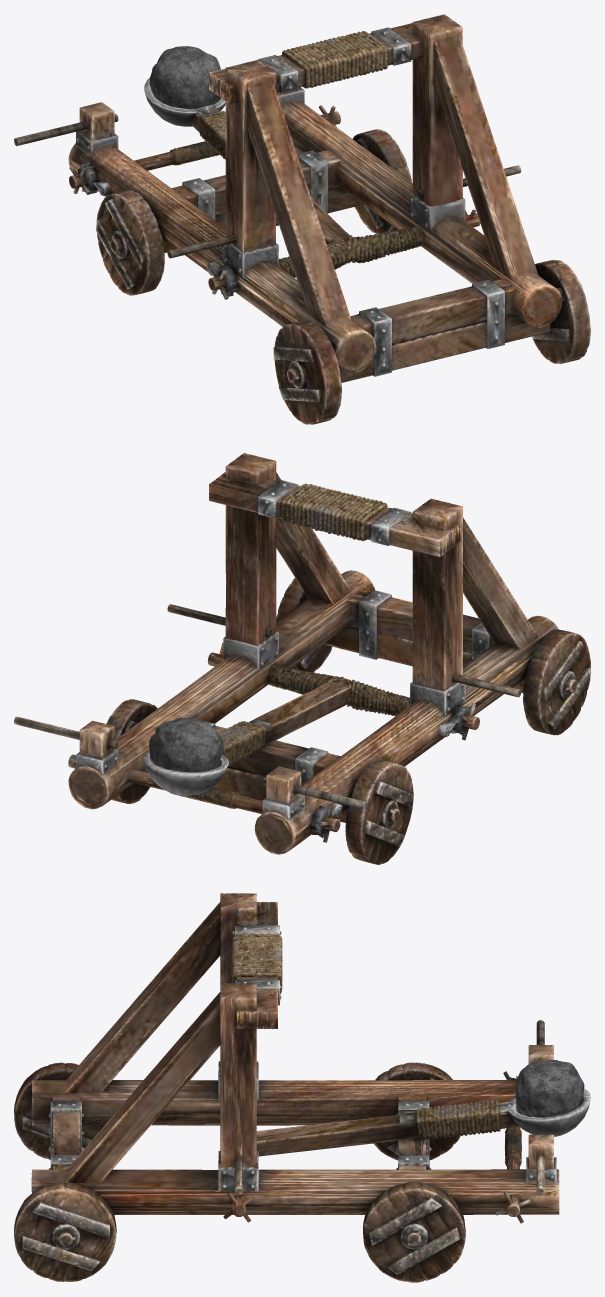
Rendered from MZ4250 - Catapult with Boulder Ammo.glb.
The picture shows the model from 3 angles, top to bottom: view 1: azimuth 30°, elevation 25°; view 2: azimuth 150°, elevation 25°; view 3: azimuth 270°, elevation 25°; orthographic projection.
Visible parts, largest first — view 1: Catapult.001; view 2: Catapult.001; view 3: Catapult.001.
Boxes of the visible parts, bbox=[...] form: Catapult.001: bbox=[14, 14, 590, 424]; Catapult.001: bbox=[14, 453, 590, 864]; Catapult.001: bbox=[14, 893, 590, 1282].
Bounding box in the file's own units: 171 × 130 × 248.
2 materials, 2 textured.
